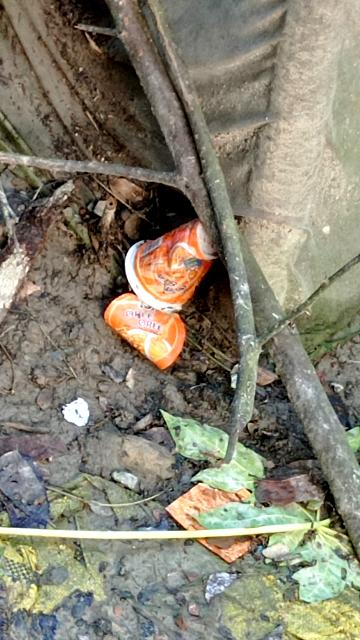hardplastic: (116, 220, 226, 320)
